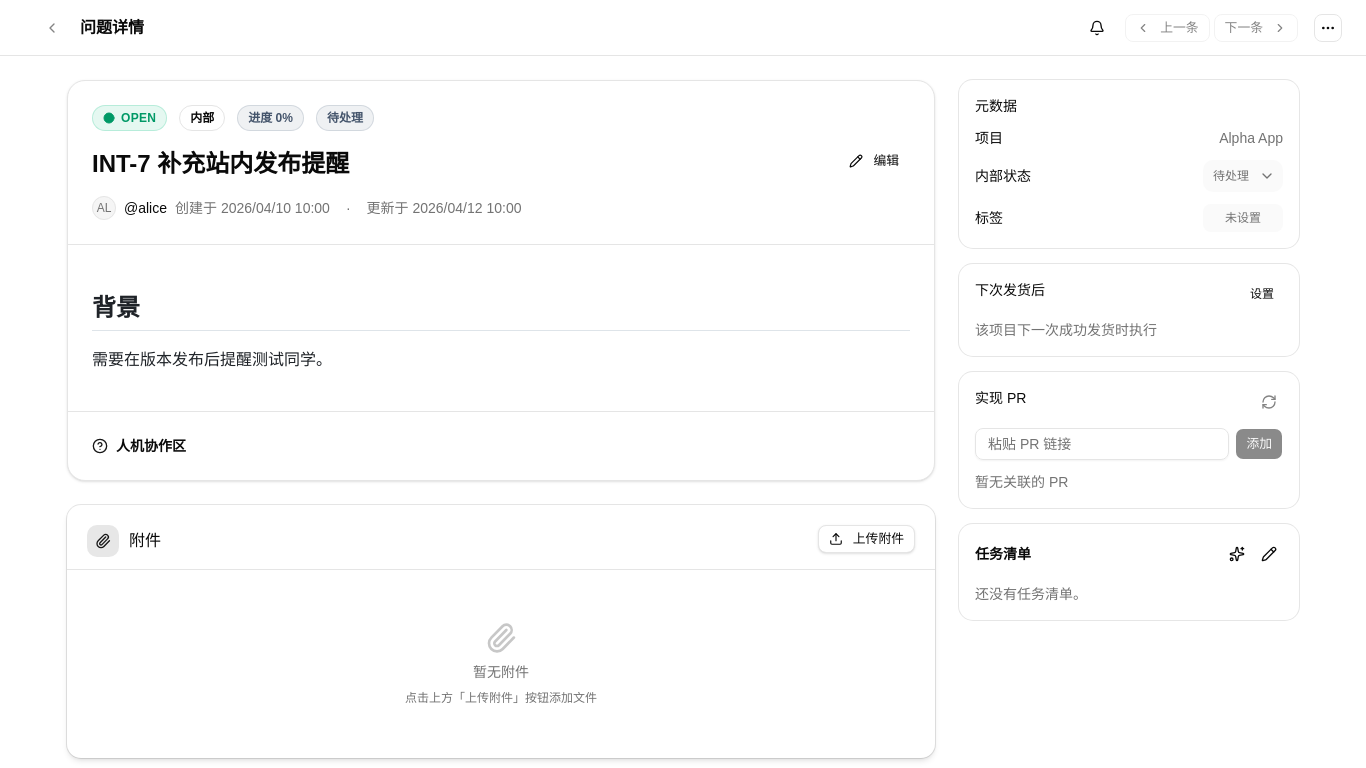
Test case: Issue pages › moves internal issue actions into the more menu
The image size is (1366, 768).
Check: the button "编辑问题" is not shown
Check: the button "关闭问题" is not shown
Click the button named "更多" at (1328, 28), box [1314,14,1342,42]
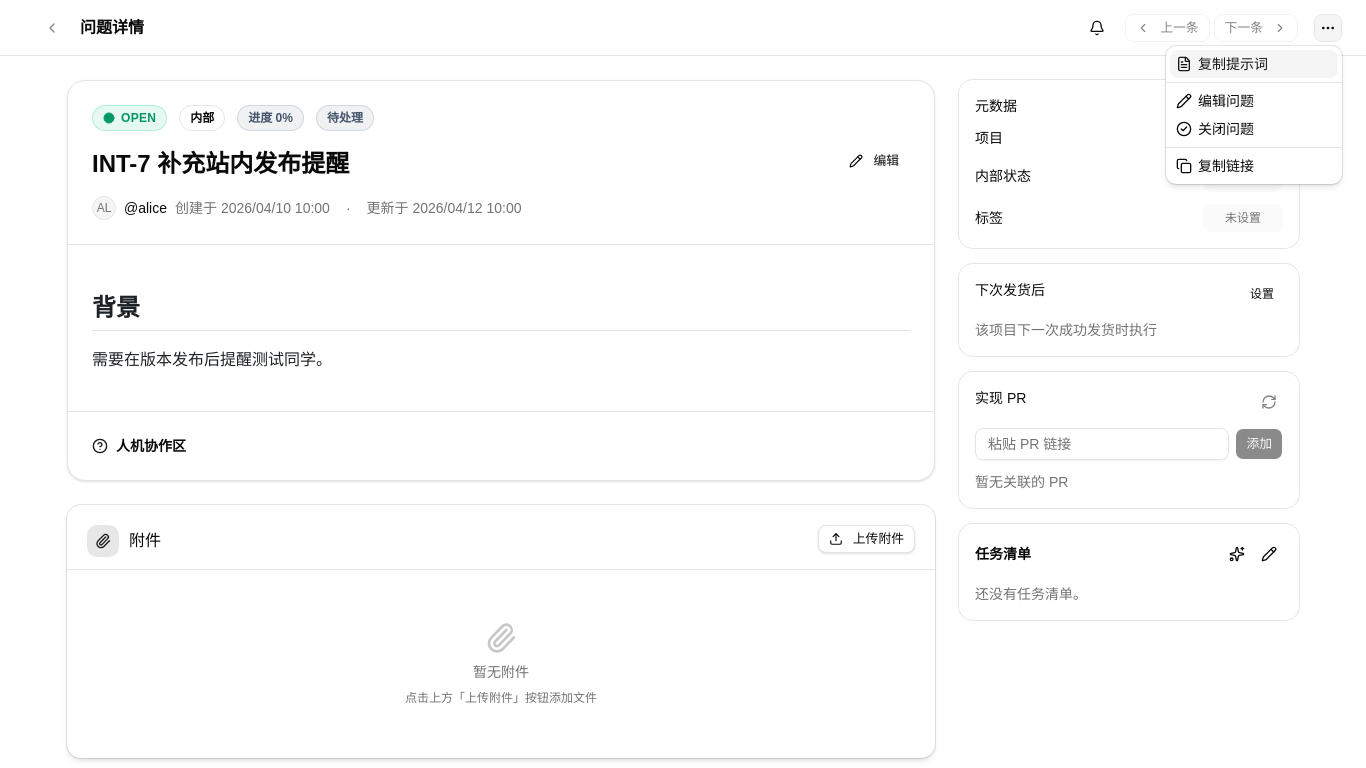
Check: the menu item "编辑问题" is shown, box [1176,93,1254,109]
Check: the menu item "关闭问题" is shown, box [1176,121,1254,137]
